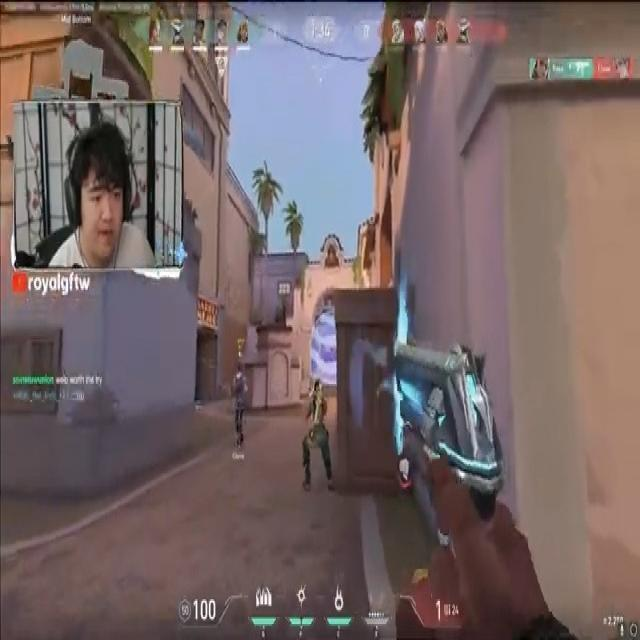ally: (299, 377, 339, 495), (230, 357, 251, 448)
smoke: (310, 313, 345, 385)
